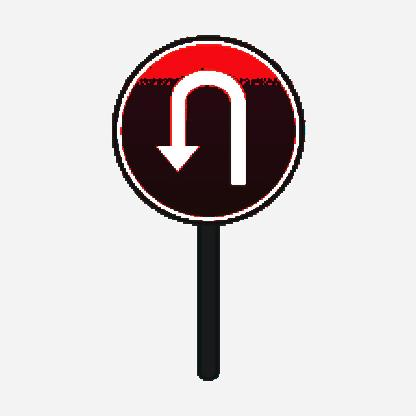U-turn: (100, 28, 316, 230)
